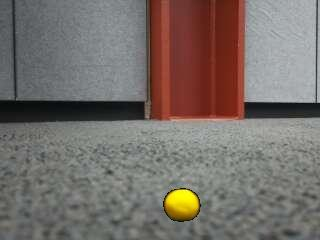lemon: (164, 189, 199, 221)
